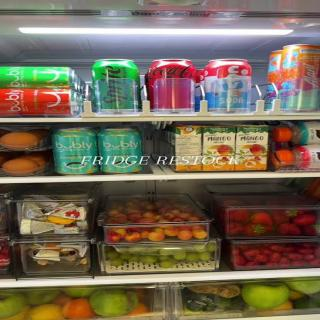Egg: (0, 128, 42, 177)
Juice: (237, 124, 273, 172), (172, 124, 205, 173), (204, 124, 237, 172)
beverage: (141, 46, 198, 116), (84, 54, 146, 114), (278, 44, 320, 114), (204, 56, 254, 114), (96, 122, 144, 176), (0, 85, 82, 114), (45, 126, 92, 175), (0, 64, 78, 88)
fruit: (73, 288, 143, 318), (247, 282, 292, 308), (132, 246, 197, 262)
